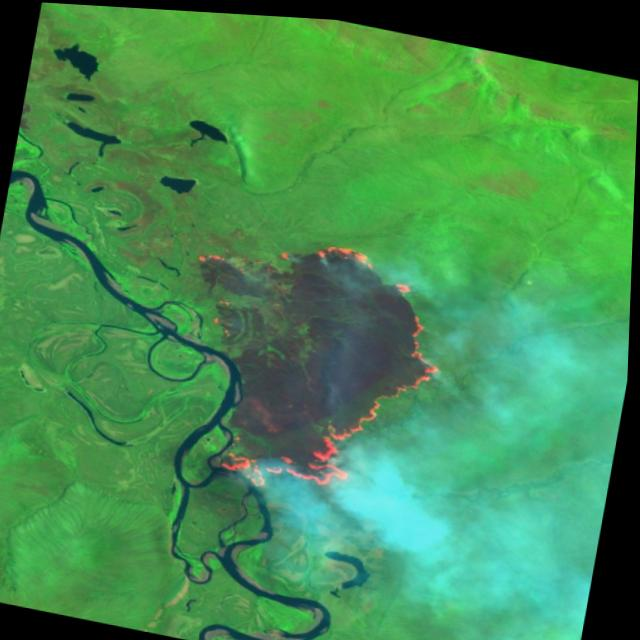fire: (154, 208, 465, 525)
